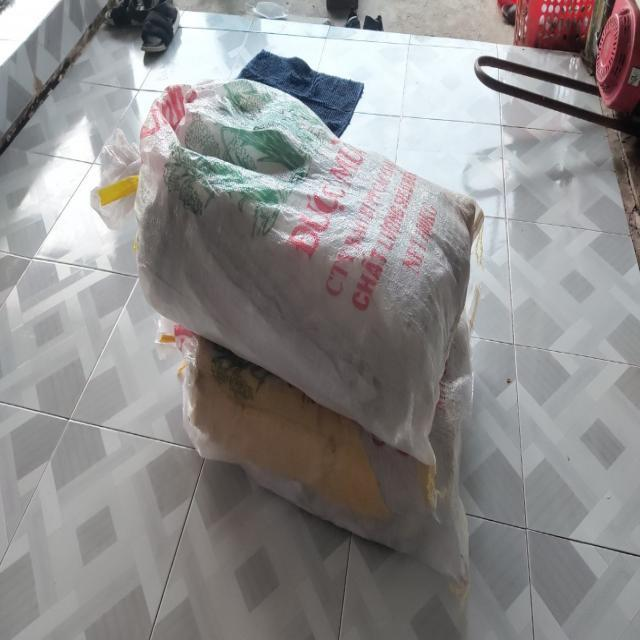gunny_bag: (136, 79, 483, 467), (178, 310, 473, 599)
